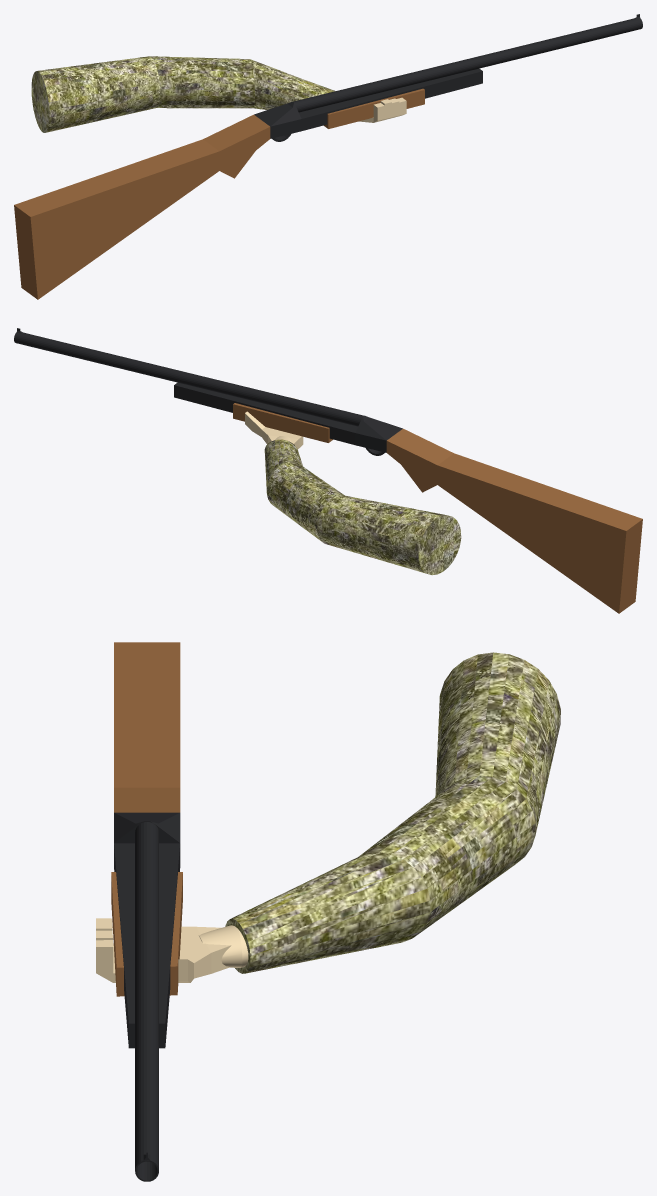
The model's file is Shotgun_new.fbx.
3 views of the same model, one above another, from view 1: azimuth 30°, elevation 25°; view 2: azimuth 150°, elevation 25°; view 3: azimuth 270°, elevation 25° (orthographic). The views are drawn at different scales.
Parts seen in each view (by area): view 1: Component_1_1, Shirt1, Component1, Component_2_1; view 2: Component_1_1, Shirt1, Component1, Component_2_1; view 3: Shirt1, Component_1_1, Component_2_1, Component1.
Part boxes in pixels (bbox=[...]): Component_1_1: bbox=[14, 14, 642, 299]; Shirt1: bbox=[31, 56, 335, 132]; Component1: bbox=[324, 88, 424, 128]; Component_2_1: bbox=[359, 97, 406, 122]; Component_1_1: bbox=[14, 328, 642, 613]; Shirt1: bbox=[264, 439, 461, 575]; Component1: bbox=[233, 403, 332, 442]; Component_2_1: bbox=[245, 397, 303, 449]; Shirt1: bbox=[225, 652, 560, 973]; Component_1_1: bbox=[114, 642, 180, 1181]; Component_2_1: bbox=[96, 918, 248, 982]; Component1: bbox=[111, 872, 182, 996].
Size of the model in its own units: 148 by 30.07 by 48.27.
